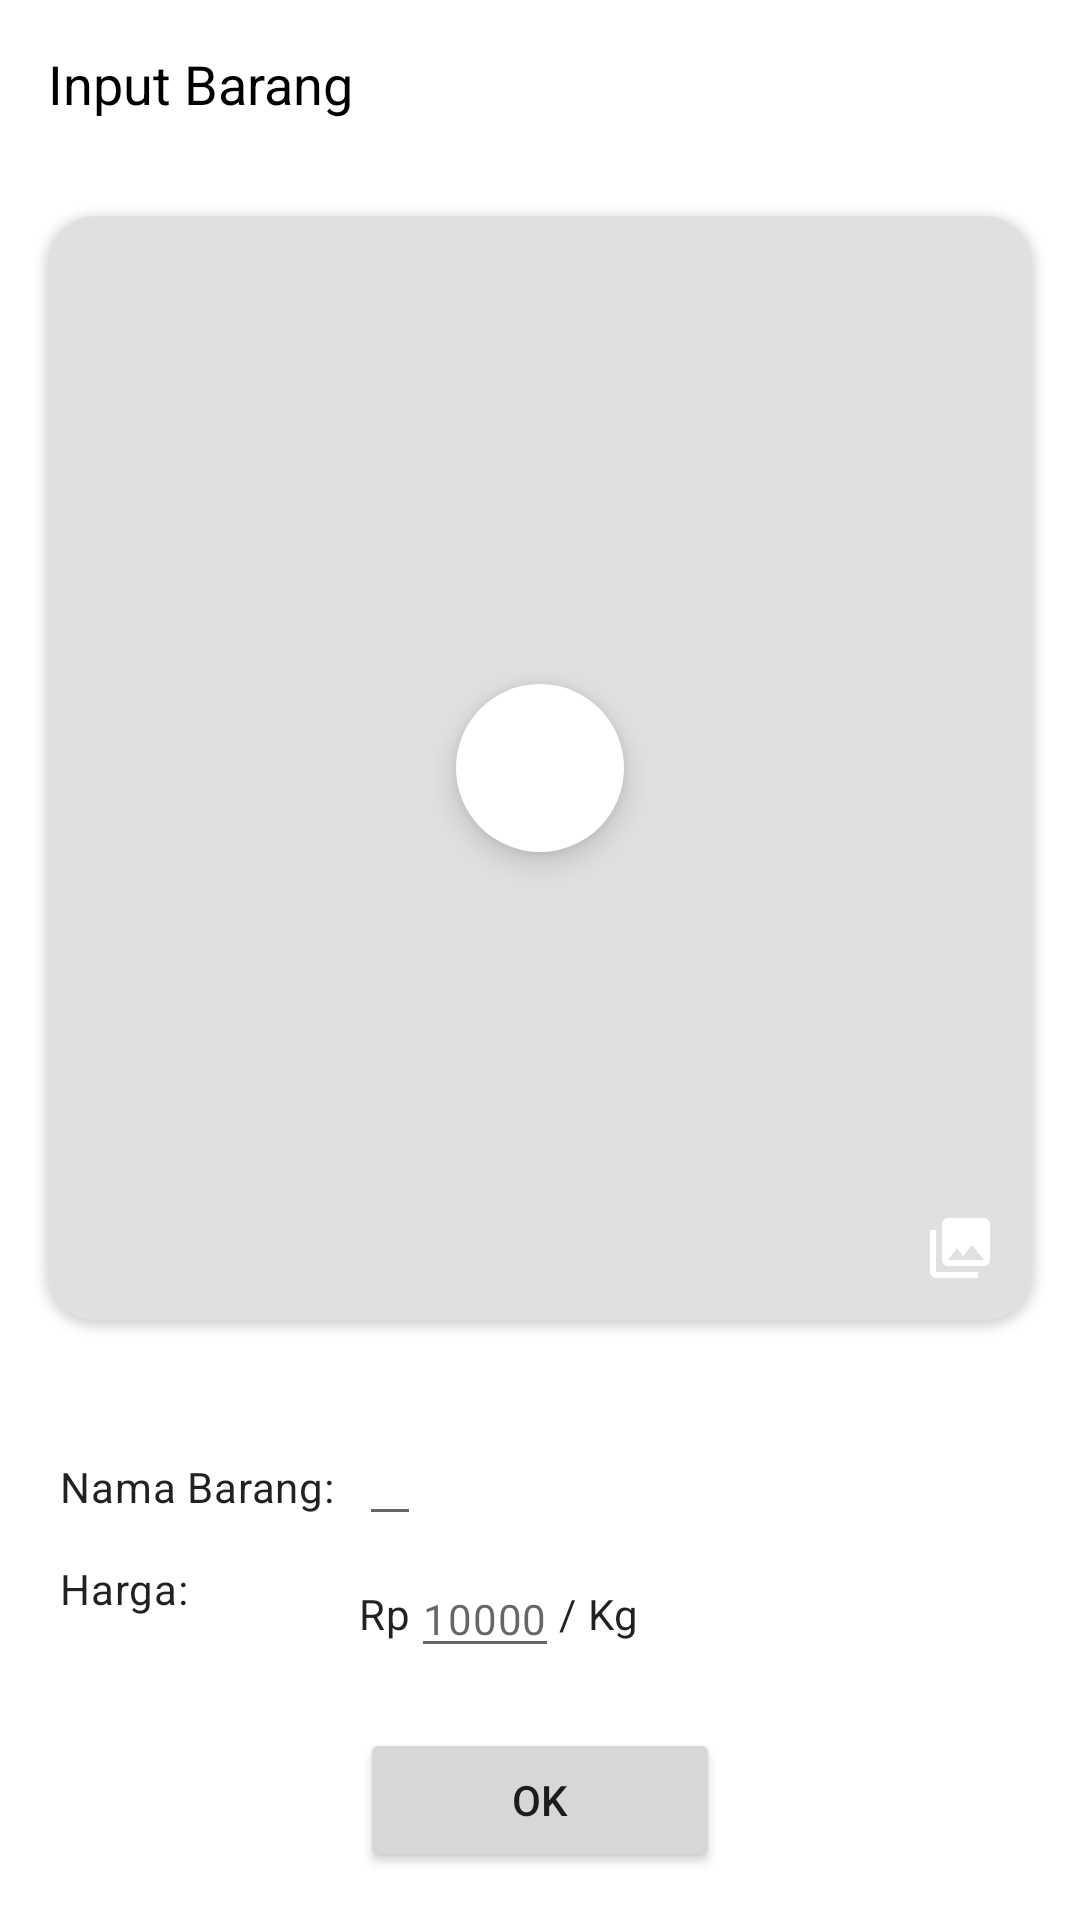

Where icons sit on this 1080px x 1920px app screen, as (x1, y1, x2, y2):
photo library: (930, 1218, 990, 1278)
